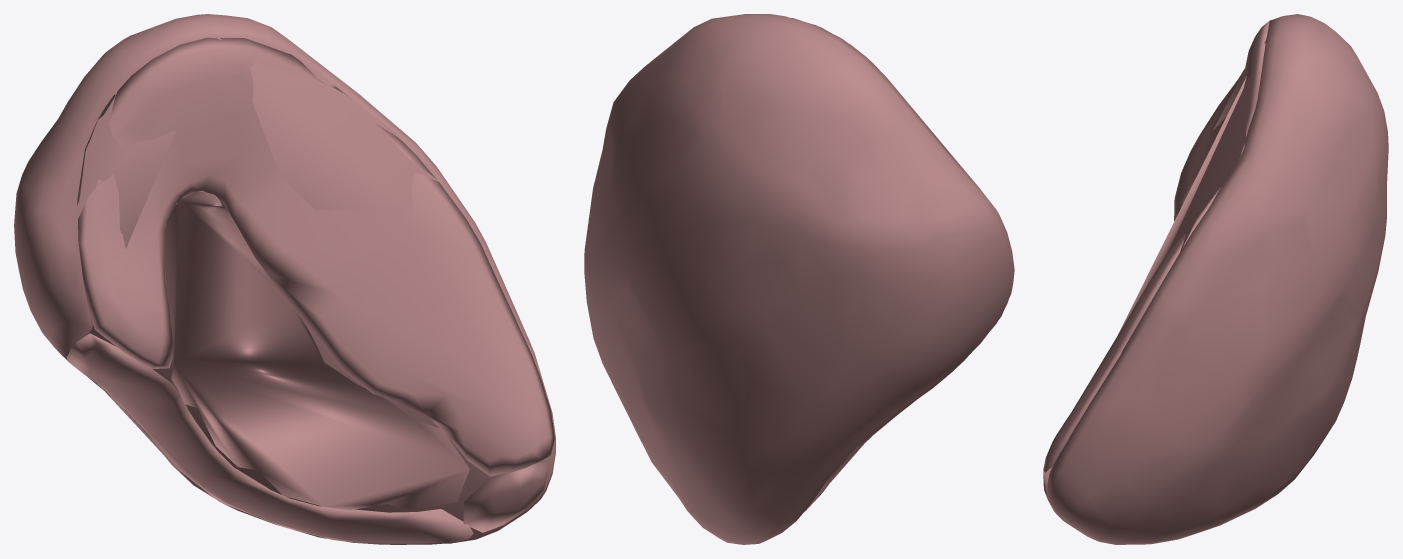
Rendered from vh_f_spleen-20.glb.
The picture shows the model from 3 angles, left to right: view 1: azimuth 30°, elevation 25°; view 2: azimuth 150°, elevation 25°; view 3: azimuth 270°, elevation 25°; orthographic projection. The views are drawn at different scales.
Visible parts, largest first — view 1: VH_F_gastric_surface_of_spleen, VH_F_diaphragmatic_surface_of_spleen, VH_F_hilum_of_spleen, VH_F_renal_surface_of_spleen, VH_F_colic_surface_of_spleen; view 2: VH_F_diaphragmatic_surface_of_spleen; view 3: VH_F_diaphragmatic_surface_of_spleen, VH_F_gastric_surface_of_spleen.
Boxes of the visible parts, x1=… form: VH_F_gastric_surface_of_spleen: x1=77, y1=37, x2=554, y2=476; VH_F_diaphragmatic_surface_of_spleen: x1=14, y1=14, x2=555, y2=544; VH_F_hilum_of_spleen: x1=164, y1=192, x2=469, y2=509; VH_F_renal_surface_of_spleen: x1=66, y1=333, x2=473, y2=544; VH_F_colic_surface_of_spleen: x1=463, y1=461, x2=549, y2=532; VH_F_diaphragmatic_surface_of_spleen: x1=584, y1=14, x2=1014, y2=544; VH_F_diaphragmatic_surface_of_spleen: x1=1047, y1=14, x2=1388, y2=544; VH_F_gastric_surface_of_spleen: x1=1043, y1=20, x2=1269, y2=472.
Bounding box in the file's own units: 0.0897 × 0.1023 × 0.0709.
